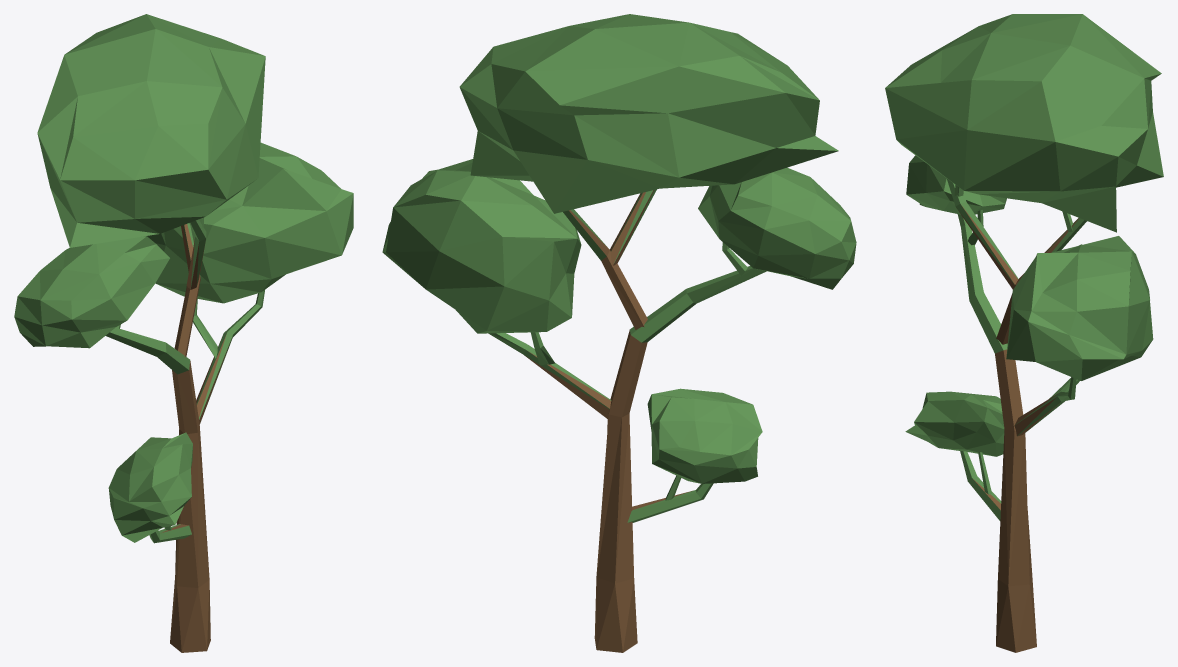
File: tree3d-143.glb
3 views of the same model, side by side, from view 1: azimuth 30°, elevation 25°; view 2: azimuth 150°, elevation 25°; view 3: azimuth 270°, elevation 25° (orthographic). The views are drawn at different scales.
Visible parts, largest first — view 1: tree3d-143; view 2: tree3d-143; view 3: tree3d-143.
Part boxes in pixels (<box>): tree3d-143: <box>14,14,353,652</box>; tree3d-143: <box>382,14,856,652</box>; tree3d-143: <box>885,14,1163,652</box>.
Bounding box in the file's own units: 0.6595 × 1 × 0.4257.
